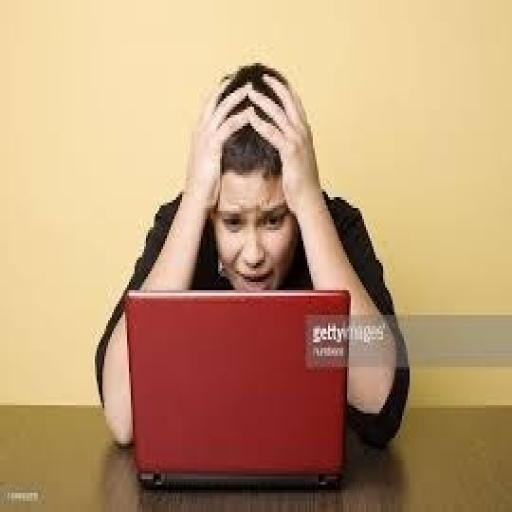using_laptop: (123, 285, 351, 490)
